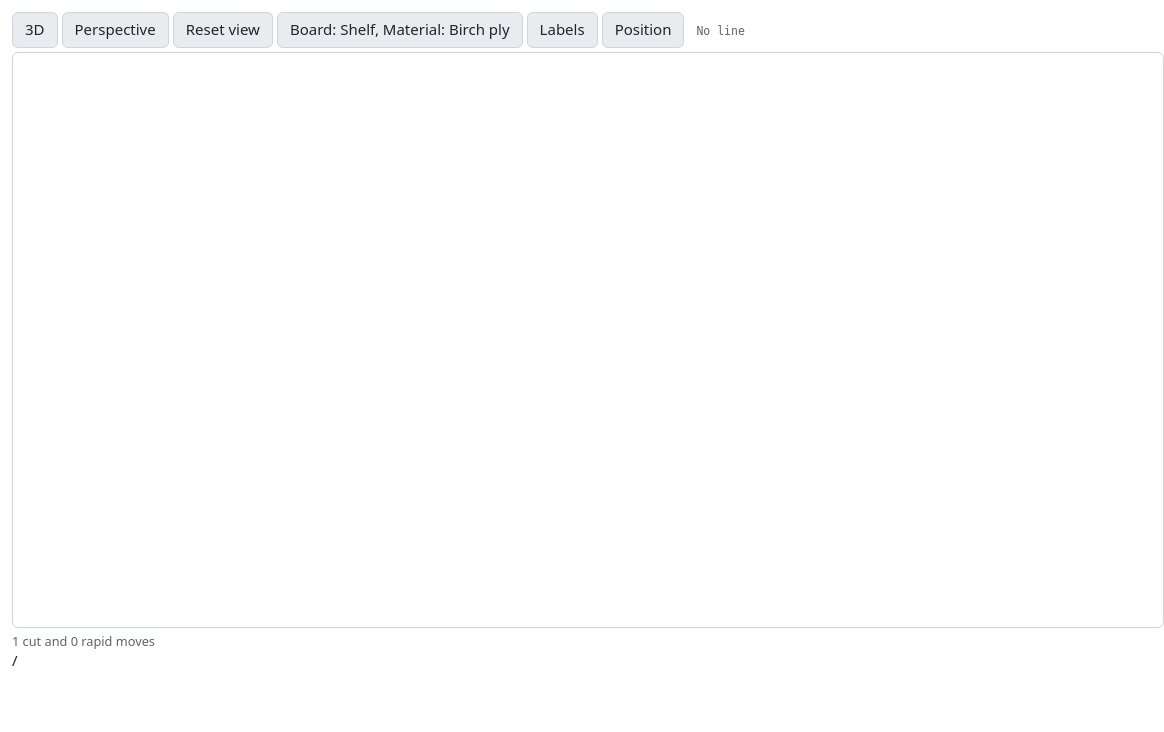
Test: Viewer toolbar › toggles 3D, perspective, board and labels, and resets the view
The image size is (1164, 732).
Expected: the text "1 cut and 0 rapid moves" is shown, [12,632,155,650]
Step 1. Click the button "3D" → click(35, 30), box [12,12,58,48]
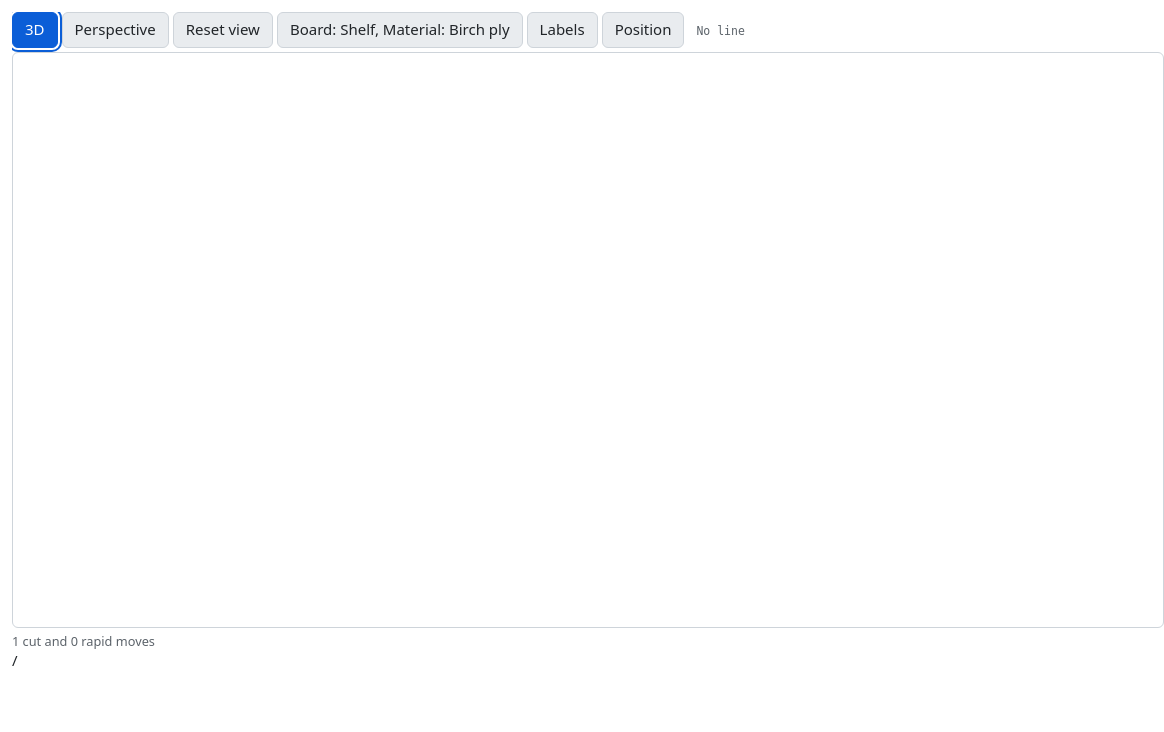
Now the button "3D" is pressed, box [12,12,58,48]
Step 2. Click the button "Perspective" → click(115, 30), box [62,12,169,48]
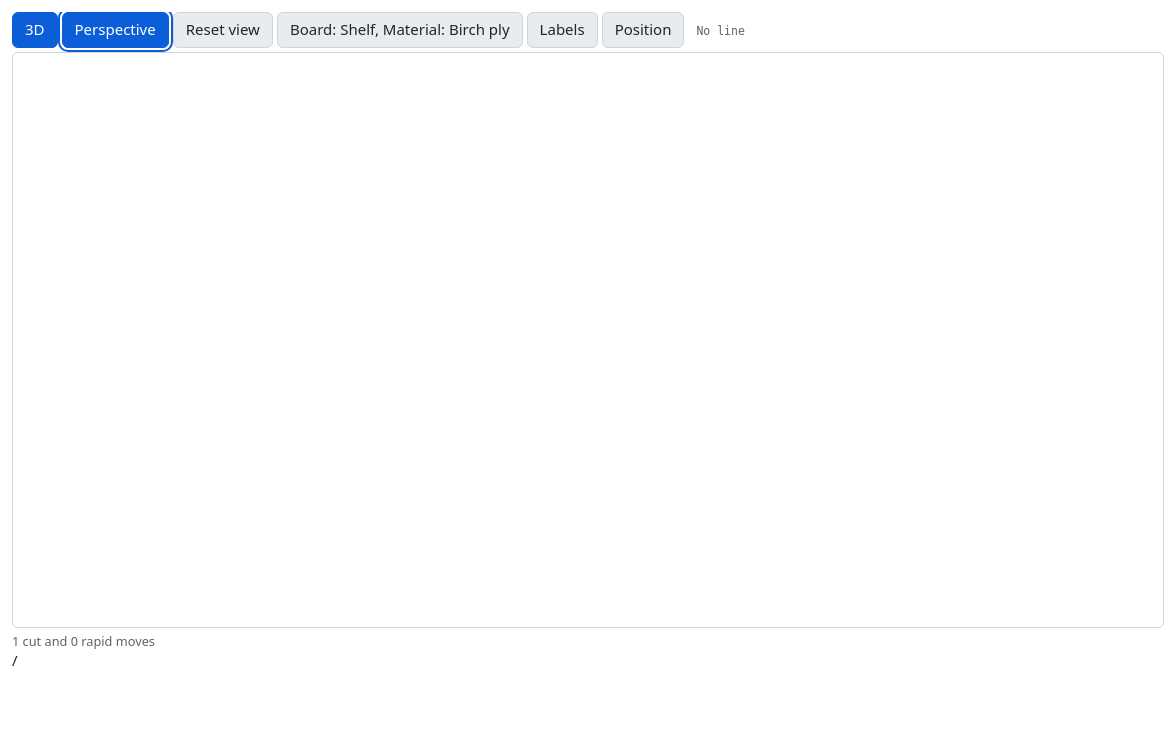
Step 3. Click the button "Reset view" → click(223, 30), box [173,12,273,48]
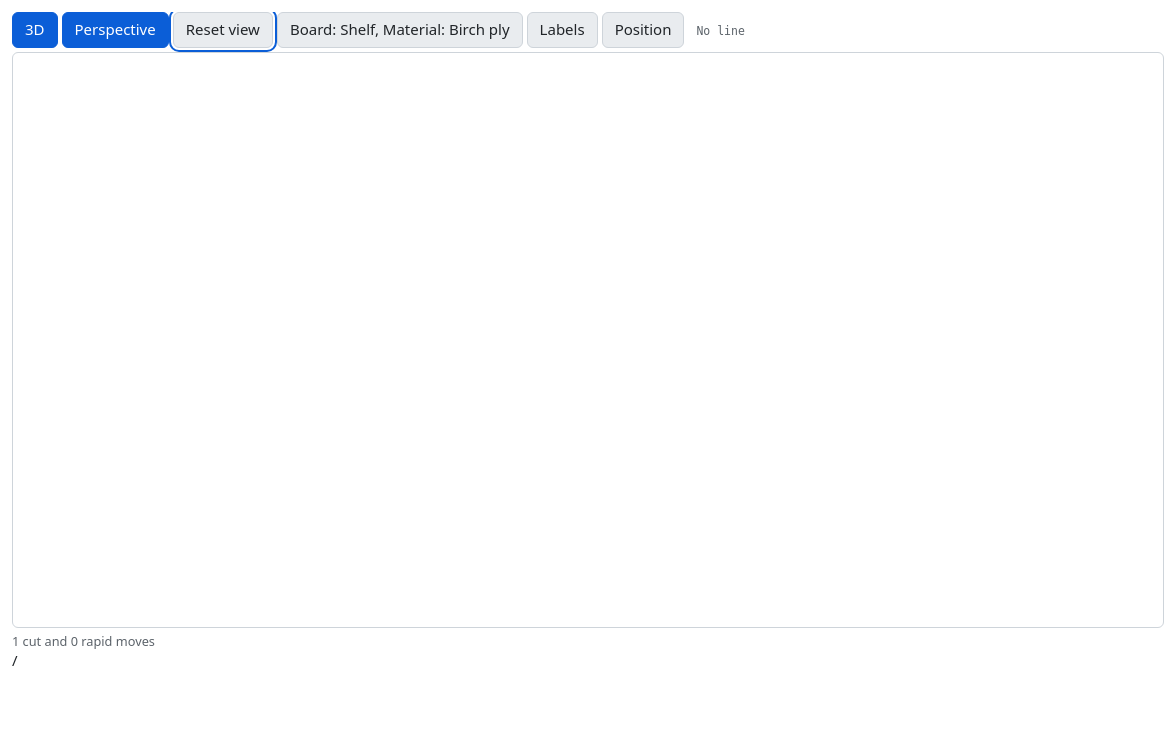
Step 4. Click the button "Board: Shelf, Material: Birch ply" → click(400, 30), box [277,12,523,48]
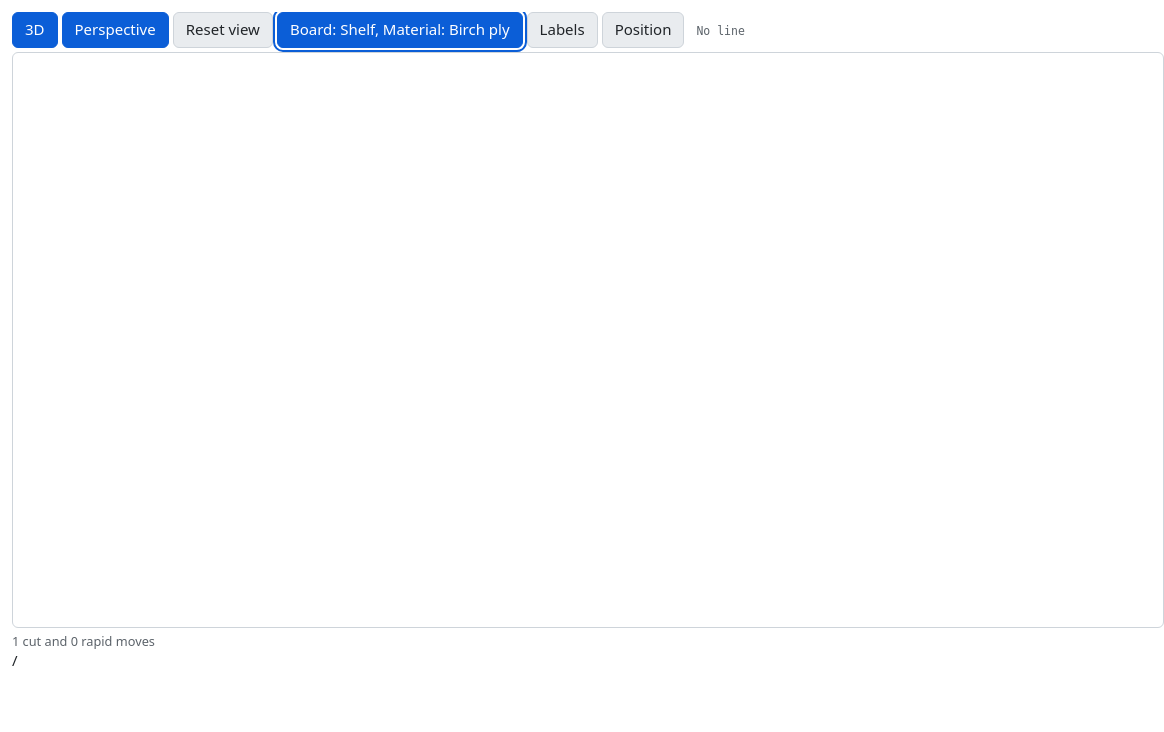
Step 5. Click the button "Labels" → click(562, 30), box [527,12,598,48]
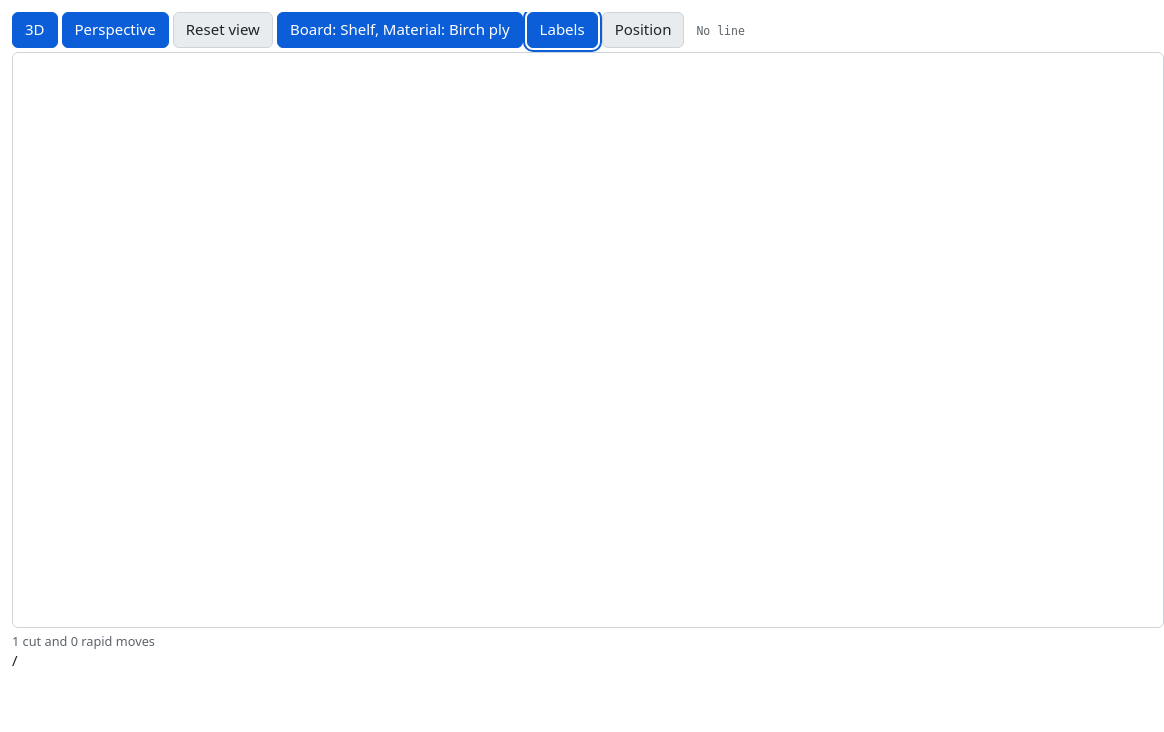
Now the button "Labels" is pressed, box [527,12,598,48]
